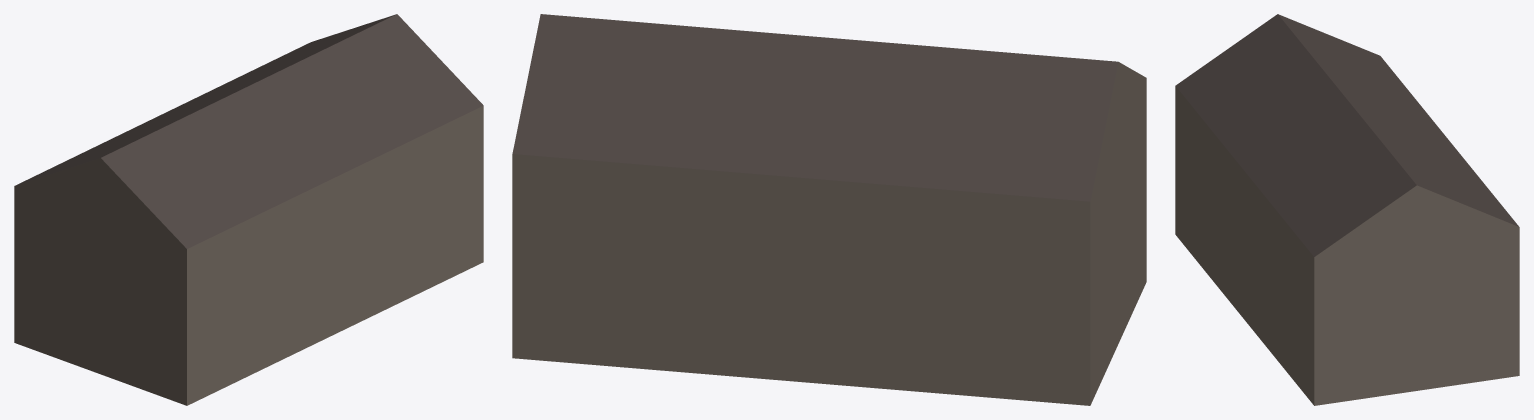
3 views of the same model, side by side, from view 1: azimuth 30°, elevation 25°; view 2: azimuth 150°, elevation 25°; view 3: azimuth 270°, elevation 25° (orthographic). The views are drawn at different scales.
Parts seen in each view (by area): view 1: HP-w859082515; view 2: HP-w859082515; view 3: HP-w859082515.
Part boxes in pixels (x1,y1,x2,y2): HP-w859082515: (14,14,483,405); HP-w859082515: (512,14,1146,405); HP-w859082515: (1175,14,1519,405).
Bounding box in the file's own units: 17.43 × 8.29 × 12.58.
